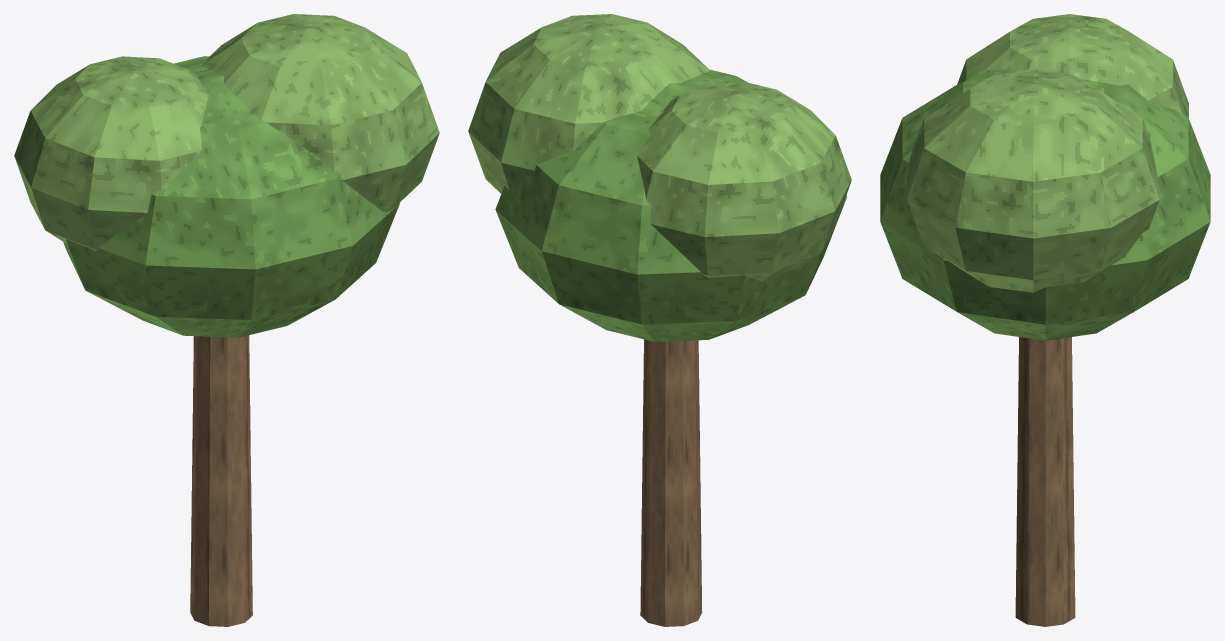
Rendered from treeSmallB.glb.
3 views of the same model, side by side, from view 1: azimuth 30°, elevation 25°; view 2: azimuth 150°, elevation 25°; view 3: azimuth 270°, elevation 25° (orthographic).
Visible parts, largest first — view 1: treeSmall; view 2: treeSmall; view 3: treeSmall.
Boxes of the visible parts, x1,y1,x2,y2 form: treeSmall: (14,14,439,626); treeSmall: (468,14,851,626); treeSmall: (880,14,1210,626).
Bounding box in the file's own units: 1.78 × 2.6 × 1.37.
Materials: 3 (3 with a texture image).
